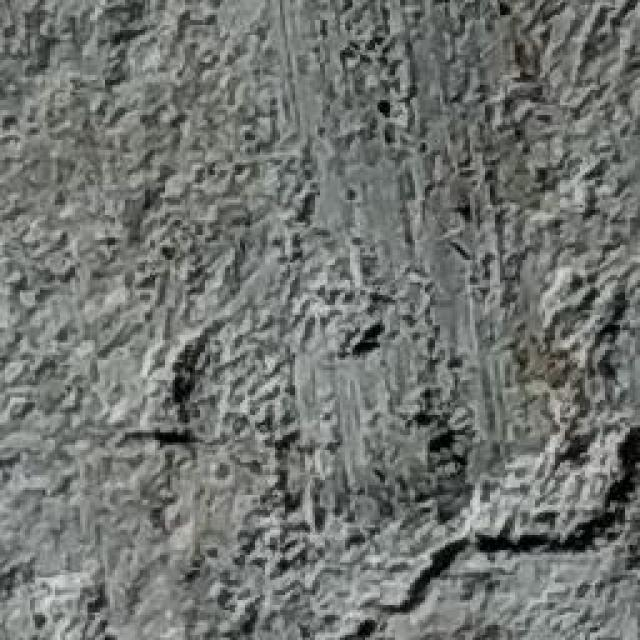Diagonal: (289, 396, 640, 640)
Rippled: (0, 0, 640, 390), (0, 390, 280, 638)
